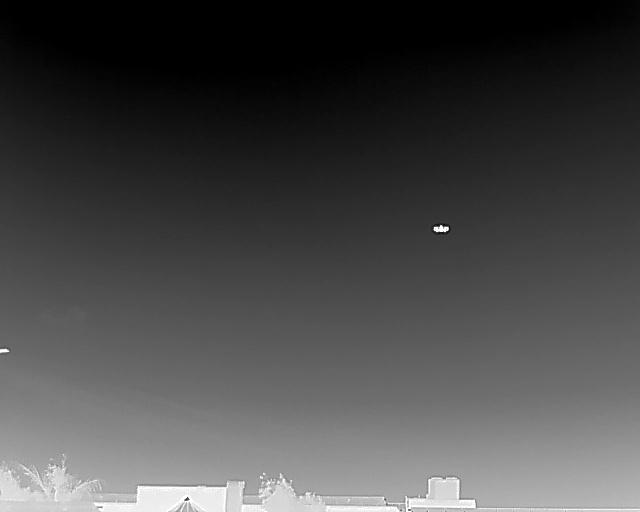fpv-drone: (431, 224, 450, 234)
